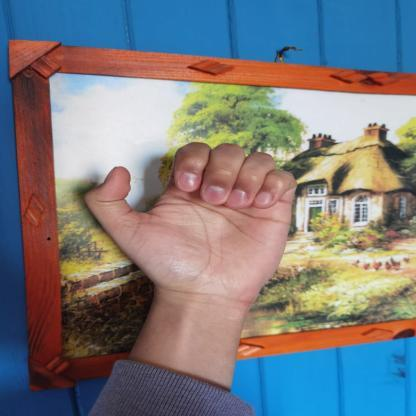E: (80, 137, 310, 304)
